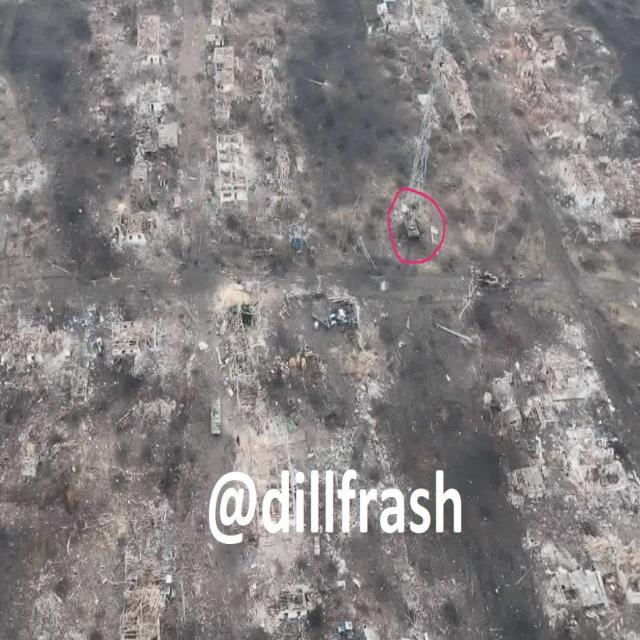cars: (211, 399, 221, 435)
tank: (406, 220, 420, 239)
